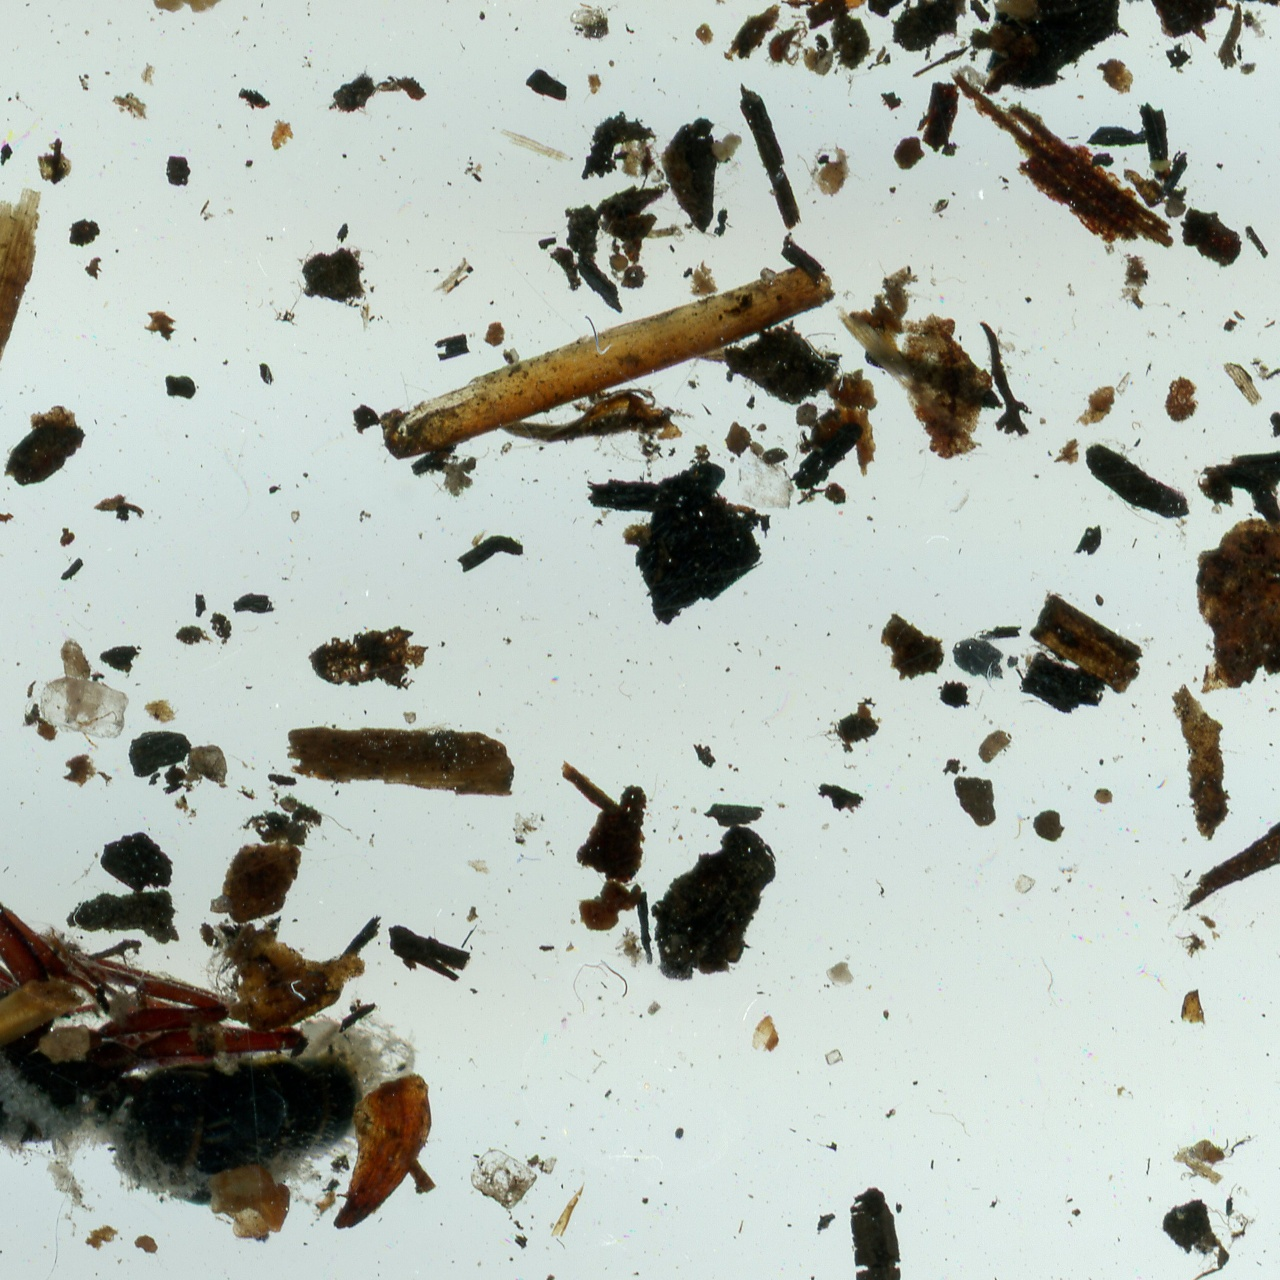arthropod: (0, 843, 402, 1280), (763, 18, 810, 71)
